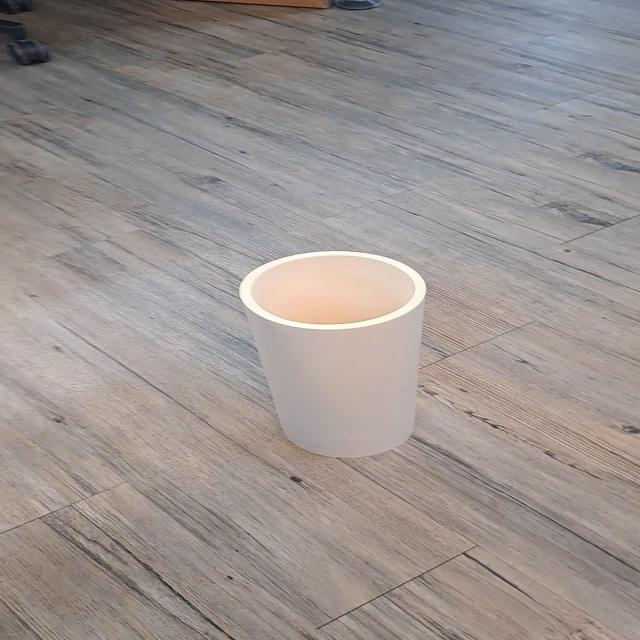CORAL: (232, 248, 449, 472)
